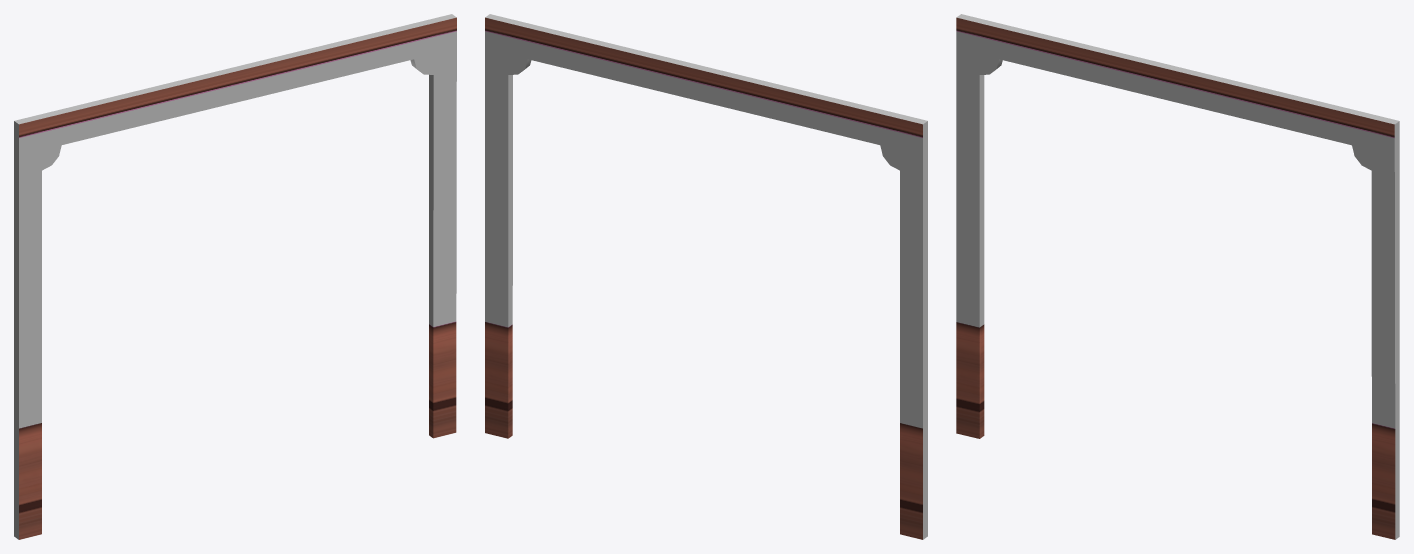
The model's file is Doorframe.fbx.
3 renders of one model, left to right at view 1: azimuth 30°, elevation 25°; view 2: azimuth 150°, elevation 25°; view 3: azimuth 330°, elevation 25°, orthographic.
Parts seen in each view (by area): view 1: pCube112; view 2: pCube112; view 3: pCube112.
Part boxes in pixels (box(x1,y1,x2,y2)): pCube112: box(14, 14, 456, 539); pCube112: box(485, 14, 927, 539); pCube112: box(956, 14, 1399, 539).
Bounding box in the file's own units: 2.21 × 0.0425 × 2.
